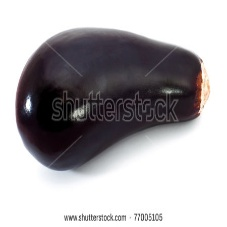eggplant: (16, 24, 210, 173)
